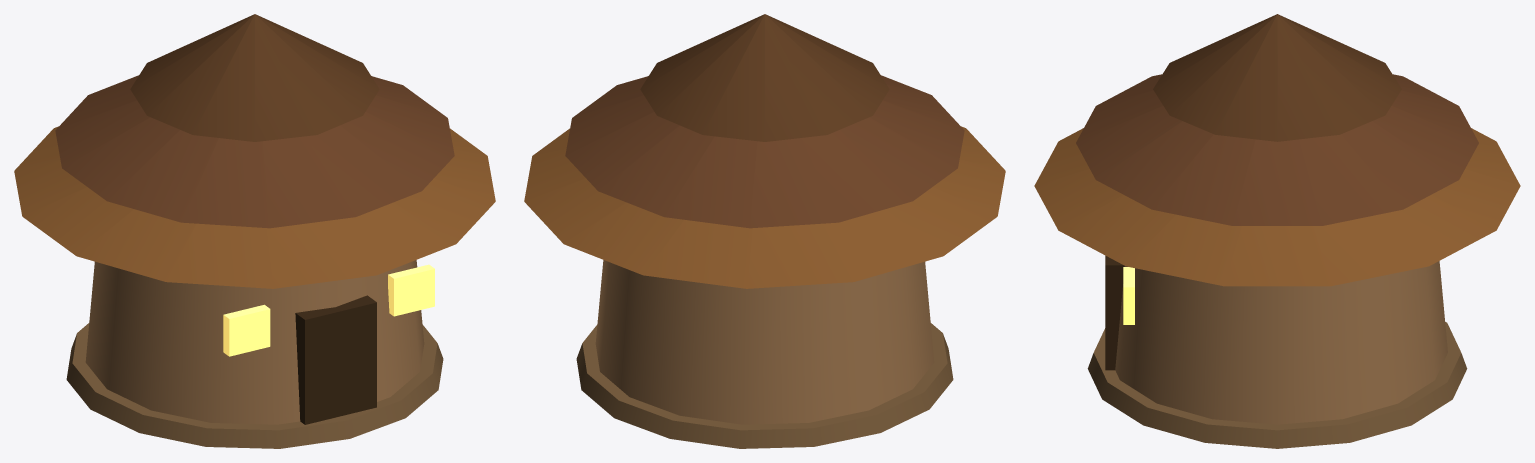
Rendered from hut.glb.
The picture shows the model from 3 angles, left to right: view 1: azimuth 30°, elevation 25°; view 2: azimuth 150°, elevation 25°; view 3: azimuth 270°, elevation 25°; orthographic projection.
Visible parts, largest first — view 1: hut; view 2: hut; view 3: hut.
Boxes of the visible parts, bbox=[...] form: hut: bbox=[14, 14, 495, 448]; hut: bbox=[524, 14, 1005, 448]; hut: bbox=[1034, 14, 1520, 448].
Bounding box in the file's own units: 1.6 × 1.32 × 1.64.
